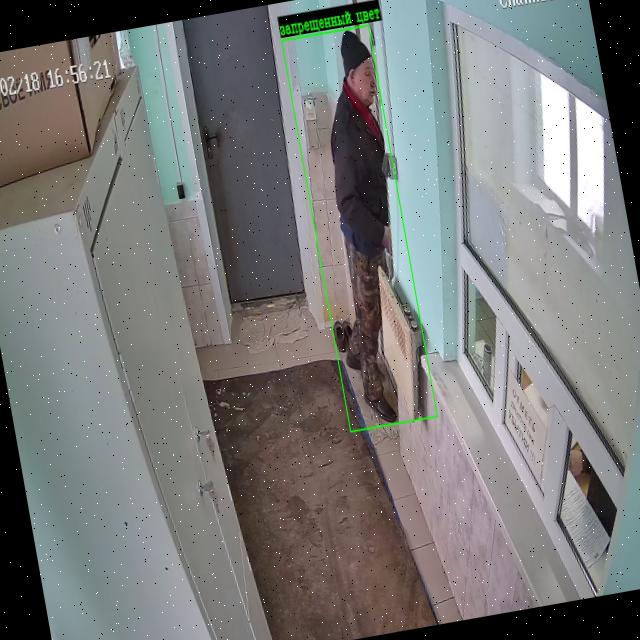Person: (330, 31, 394, 421)
